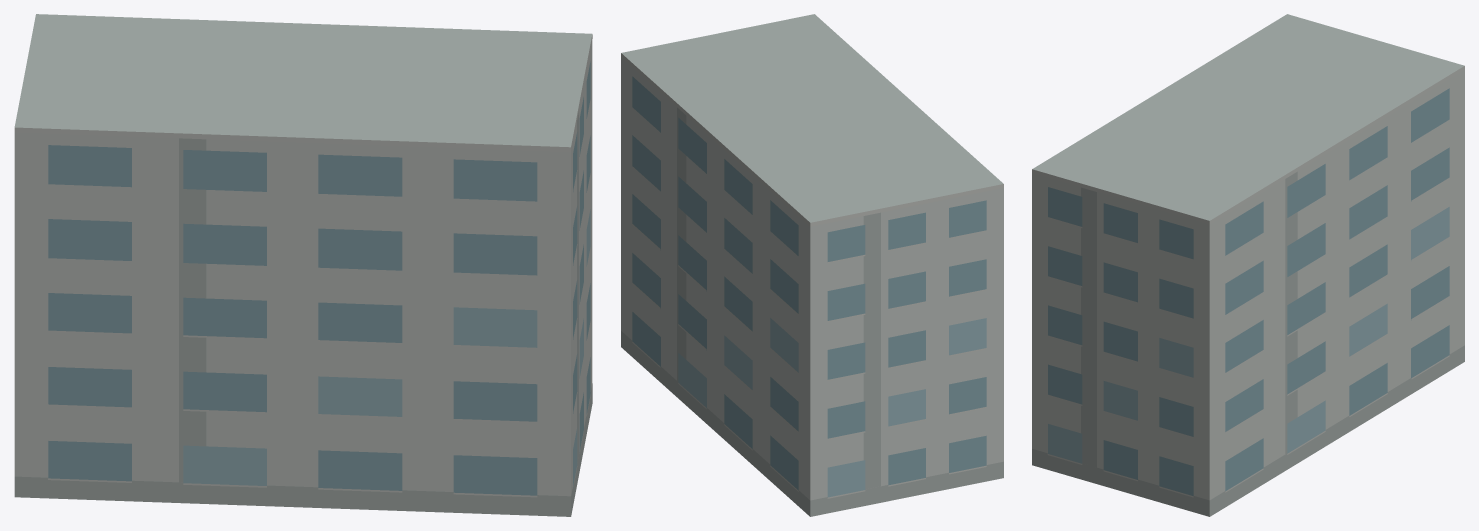
The model's file is survey-upis-32905402.glb.
3 renders of one model, left to right at view 1: azimuth 30°, elevation 25°; view 2: azimuth 150°, elevation 25°; view 3: azimuth 270°, elevation 25°, orthographic. The views are drawn at different scales.
Parts seen in each view (by area): view 1: survey-upis-32905402.tmp; view 2: survey-upis-32905402.tmp; view 3: survey-upis-32905402.tmp.
Part boxes in pixels (x1,y1,x2,y2): survey-upis-32905402.tmp: (14,14,592,516); survey-upis-32905402.tmp: (621,14,1003,516); survey-upis-32905402.tmp: (1032,14,1464,516).
Size of the model in its own units: 26.84 by 17.9 by 23.72.
